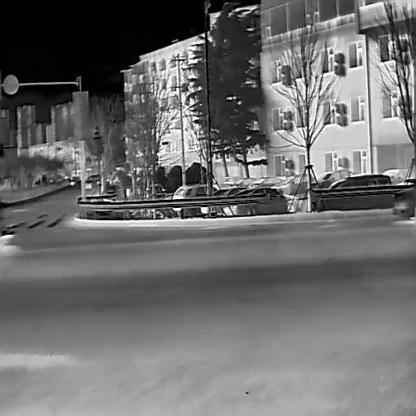car: (311, 173, 395, 212), (222, 186, 300, 215), (171, 184, 207, 210), (311, 168, 353, 189), (273, 172, 311, 195), (247, 176, 283, 188), (382, 168, 404, 184), (230, 175, 254, 187), (148, 182, 165, 197), (220, 176, 232, 188), (84, 178, 94, 188)
